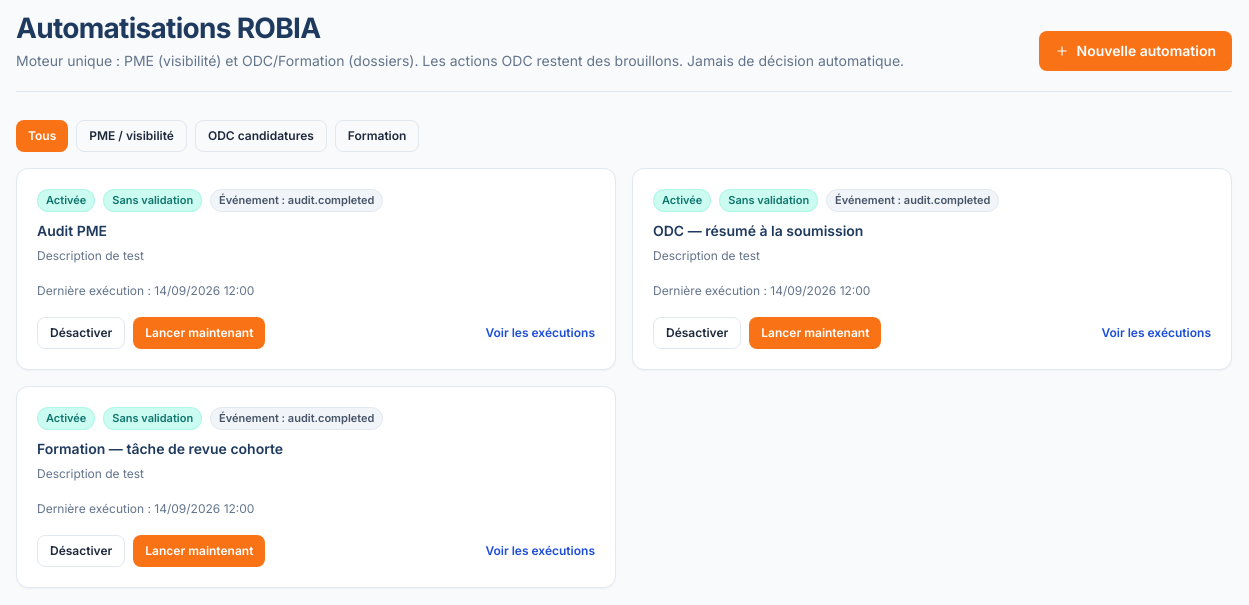
PageOpsAutomations › filters ODC candidatures vs PME vs formation
Expected: the link "Audit PME" is shown, 37,222 -> 107,239
Click the button "ODC candidatures" at [261, 136], box 195,120 -> 327,152
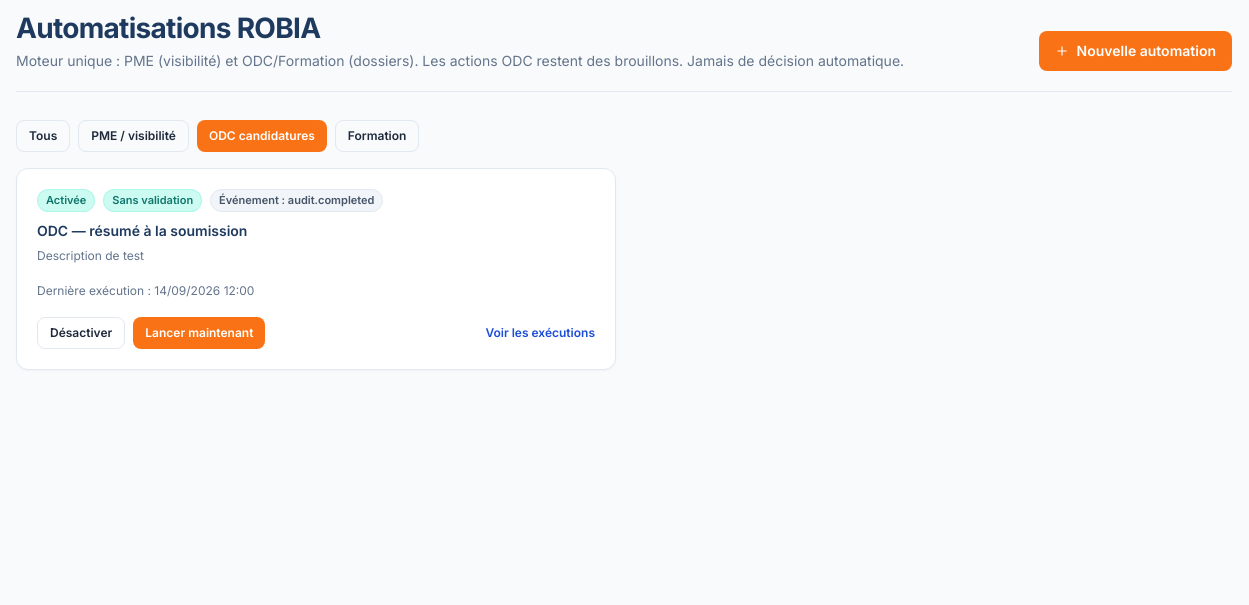
Expected: the link "ODC — résumé à la soumission" is shown, 37,222 -> 247,239
Now the link "Audit PME" is gone
Now the link "Formation — tâche de revue cohorte" is gone
Click the button "Formation" at [377, 136], box 335,120 -> 419,152
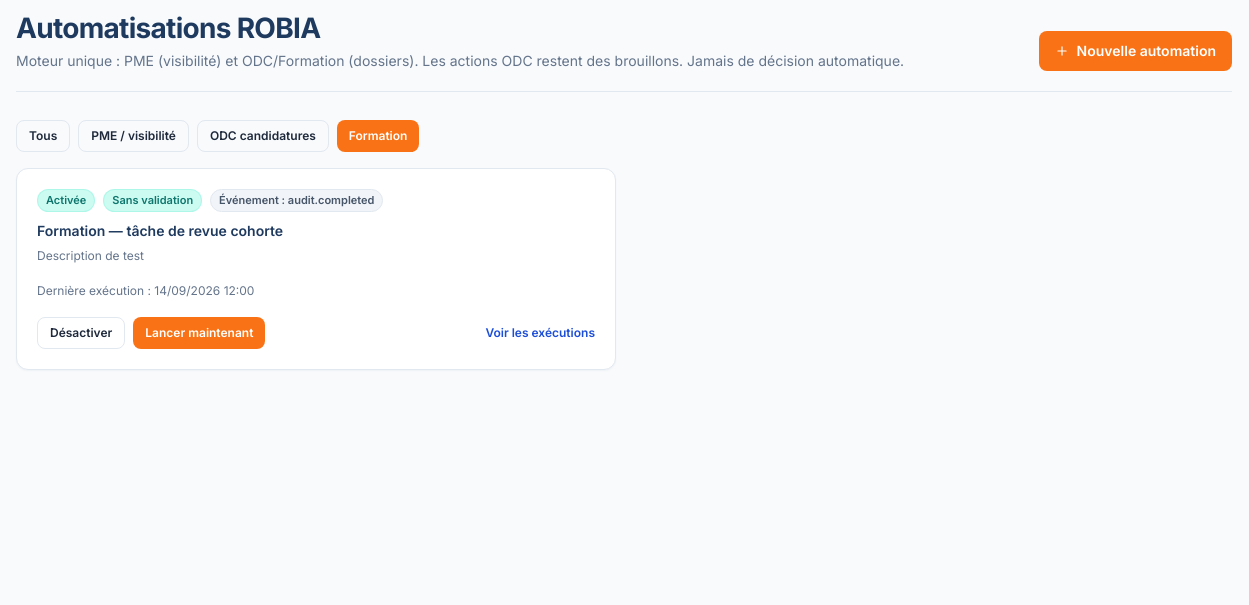
Expected: the link "Audit PME" is not shown
Now the link "Formation — tâche de revue cohorte" is shown, box 37,222 -> 283,239
